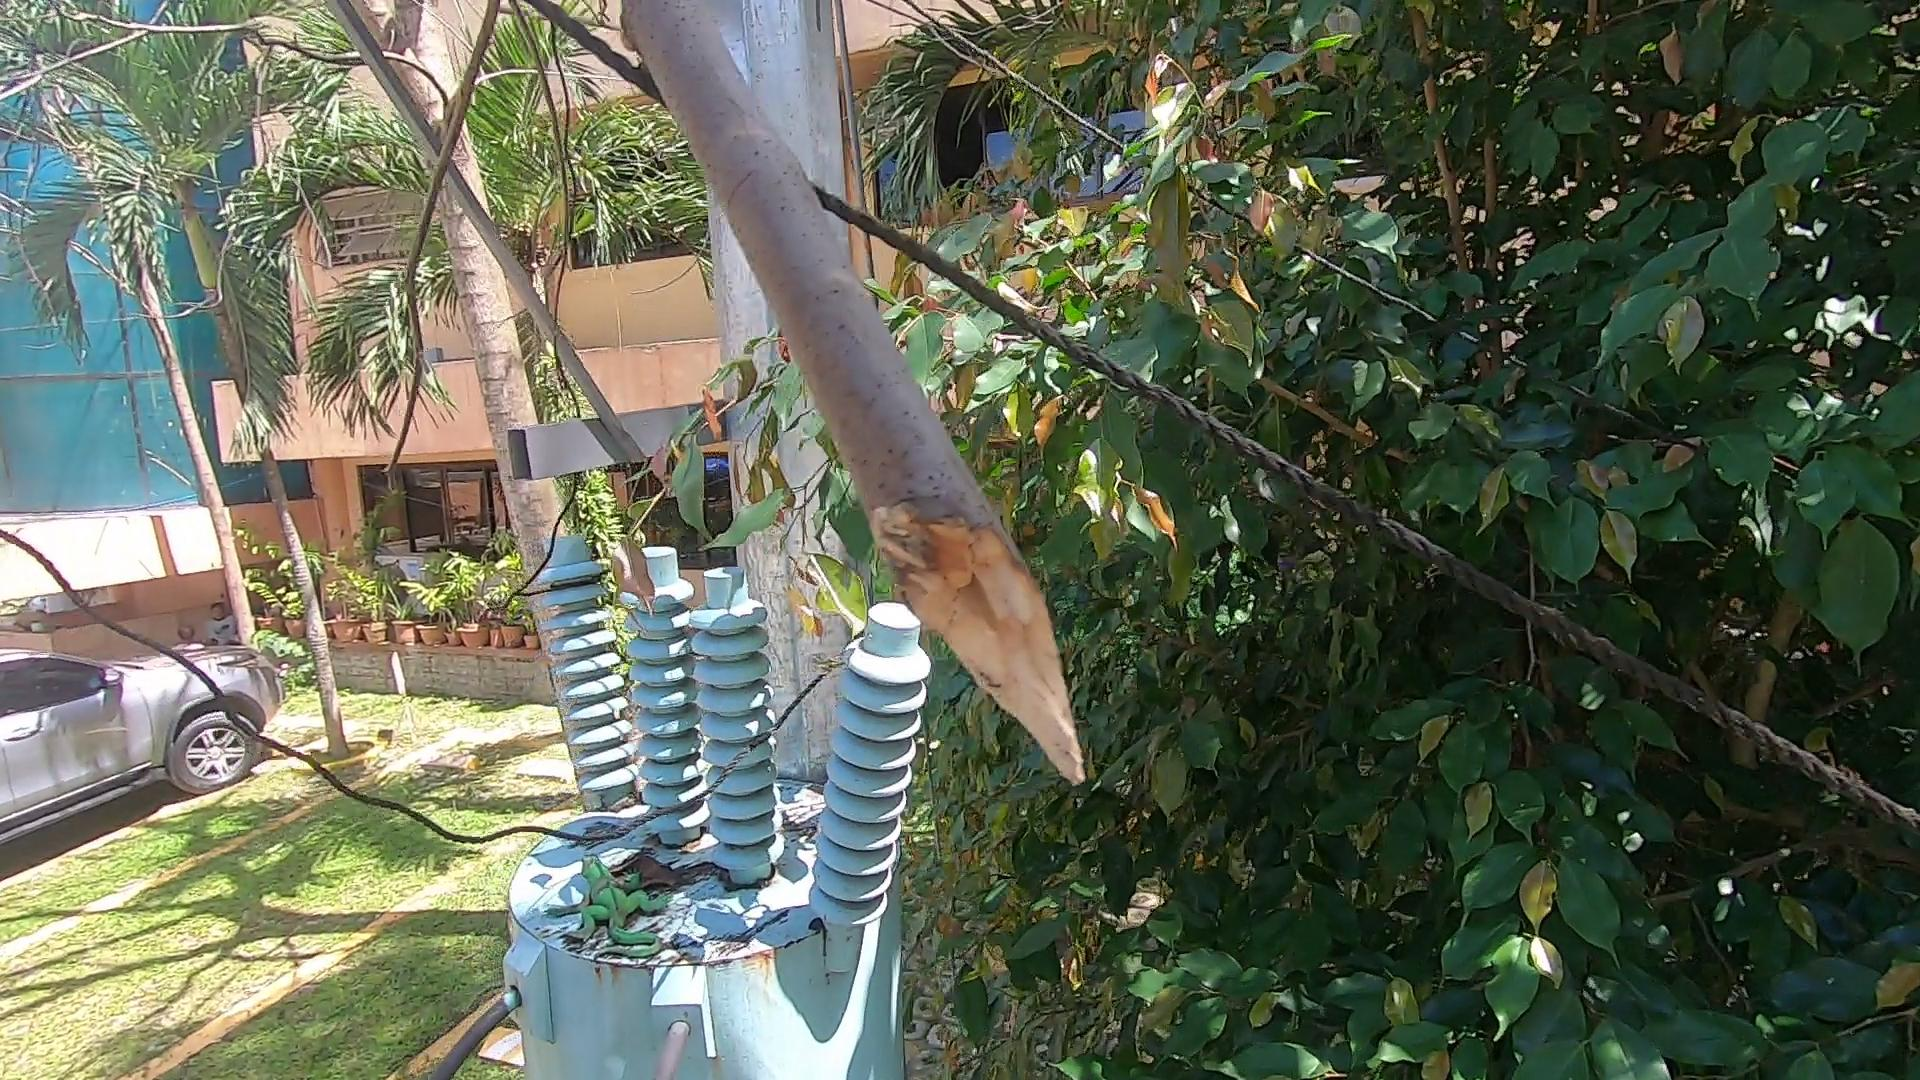branch with leaves: (632, 343, 868, 624)
leaf: (647, 841, 735, 907), (595, 789, 647, 818), (785, 816, 831, 847)
tree branch: (419, 15, 1131, 808)
